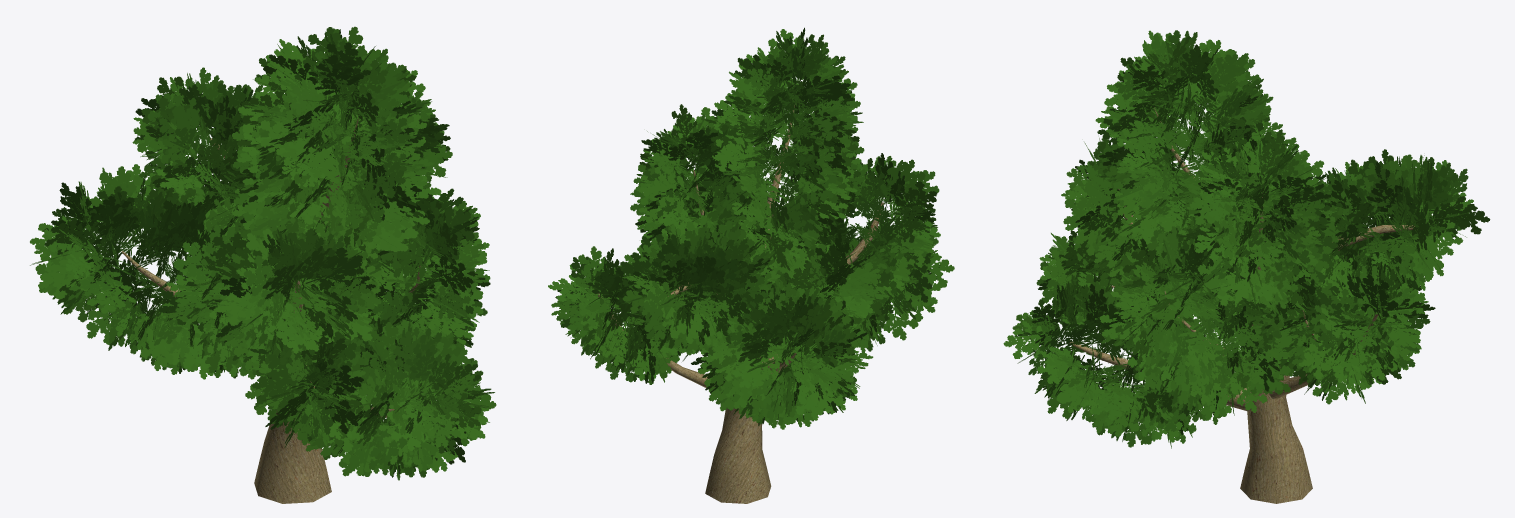
The model's file is Tree.fbx.
3 views of the same model, side by side, from view 1: azimuth 30°, elevation 25°; view 2: azimuth 150°, elevation 25°; view 3: azimuth 270°, elevation 25° (orthographic). The views are drawn at different scales.
Parts seen in each view (by area): view 1: Oak Tree; view 2: Oak Tree; view 3: Oak Tree.
Boxes of the visible parts, box(x1,y1,x2,y2) form: Oak Tree: box(30, 26, 496, 503); Oak Tree: box(548, 27, 954, 503); Oak Tree: box(1003, 30, 1490, 503).
Size of the model in its own units: 666 by 835 by 837.
